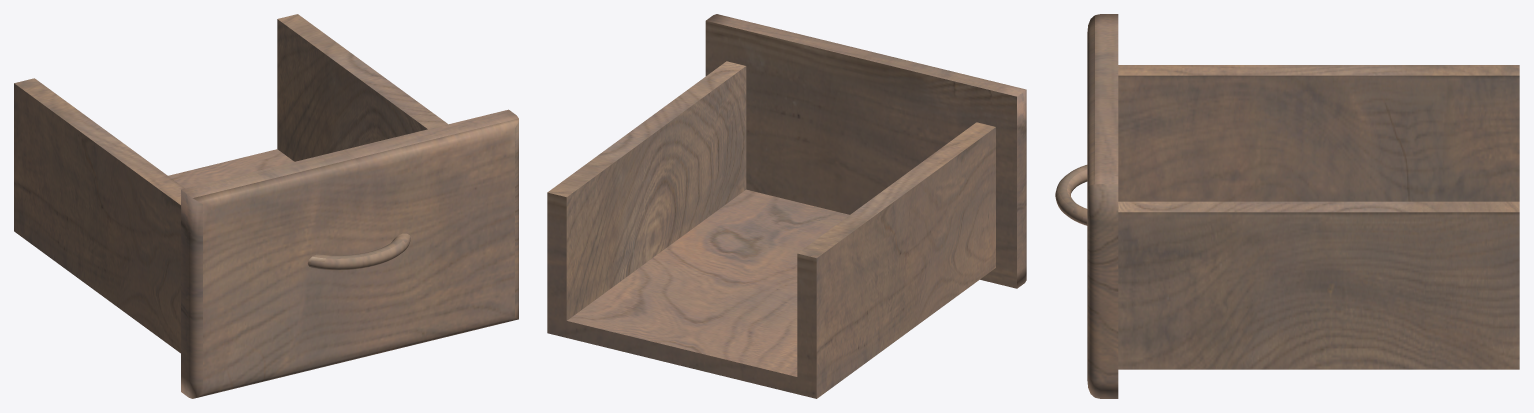
The model's file is desk_draw.FBX.
3 views of the same model, side by side, from view 1: azimuth 30°, elevation 25°; view 2: azimuth 150°, elevation 25°; view 3: azimuth 270°, elevation 25° (orthographic). The views are drawn at different scales.
Visible parts, largest first — view 1: Box001; view 2: Box001; view 3: Box001.
Boxes of the visible parts, box(x1,y1,x2,y2) form: Box001: box(14, 14, 518, 398); Box001: box(547, 14, 1026, 398); Box001: box(1055, 14, 1519, 398).
Bounding box in the file's own units: 65.41 × 38.55 × 75.46.
1 material, 1 textured.
